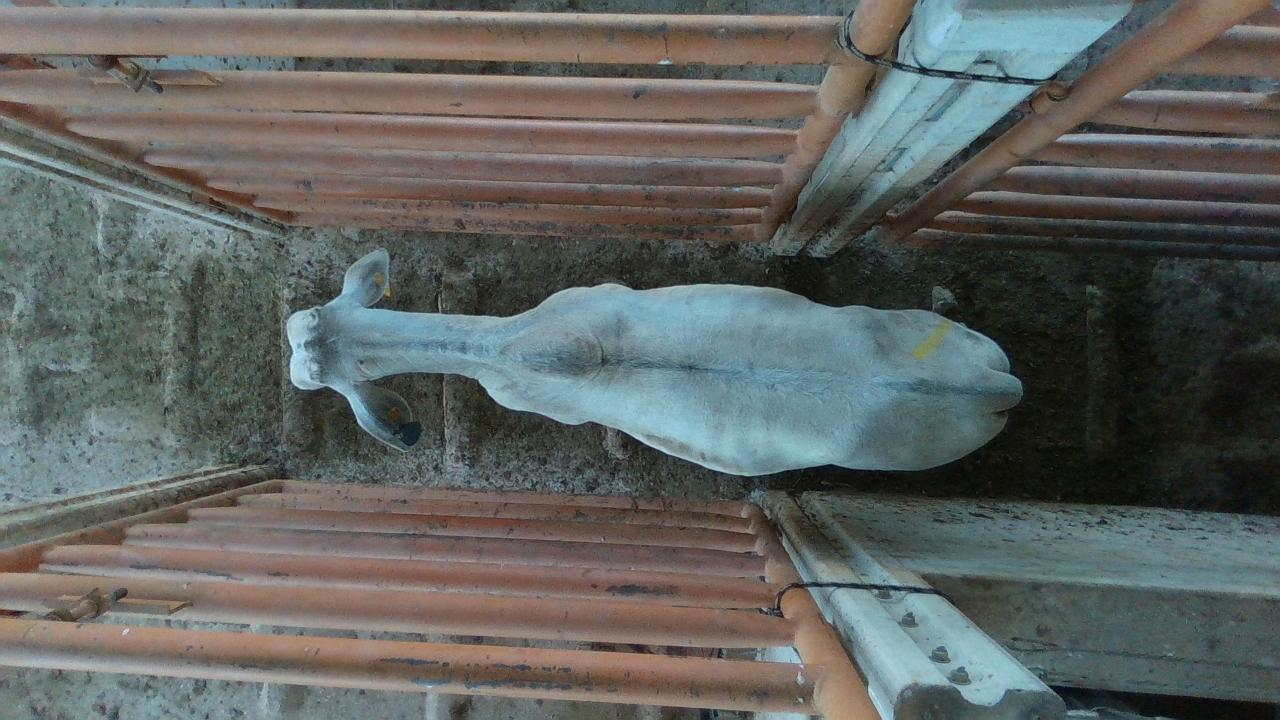cattle: (284, 247, 1024, 477)
